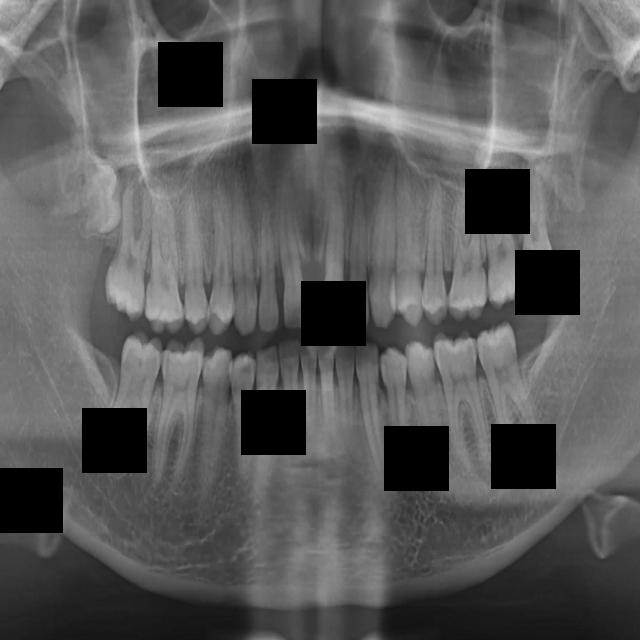3M ESPE Implant: (72, 160, 123, 236)
AGS Medikal Implant: (344, 176, 370, 327)
AMerOss Implant: (367, 148, 399, 330)
Amalgam filling: (395, 176, 423, 326)
Anthogyr Implant: (419, 178, 447, 327)
Bicon Implant: (448, 189, 487, 321)
BioHorizons Implant: (481, 166, 529, 310)
BioLife Implant: (522, 161, 554, 290)
Blue Sky Bio Implant: (470, 318, 550, 474)
Camlog Implant: (432, 326, 492, 474)
Caries: (100, 177, 157, 323)
Composite filling: (402, 336, 456, 500)
Cowellmedi Implant: (377, 344, 420, 480)
Crown: (352, 338, 395, 498)
DENTSPLY Implant: (334, 336, 357, 443)
Dentatus Implant: (317, 338, 336, 439)
Dentis Implant: (298, 337, 317, 442)
Dentium Implant: (278, 337, 310, 465)
Euroteknika Implant: (251, 343, 280, 481)
Filling: (230, 349, 255, 486)
Frontier Implant: (190, 344, 233, 505)
Hiossen Implant: (134, 185, 185, 336)
Implant: (95, 326, 166, 484)
Implant Direct: (150, 333, 206, 491)
MIS Implant: (184, 181, 207, 335)
Mandible: (207, 175, 240, 336)
Maxilla: (230, 164, 258, 337)
Megagen Implant: (258, 192, 281, 335)
Neodent Implant: (274, 163, 310, 331)
Neoss Implant: (319, 183, 346, 327)
